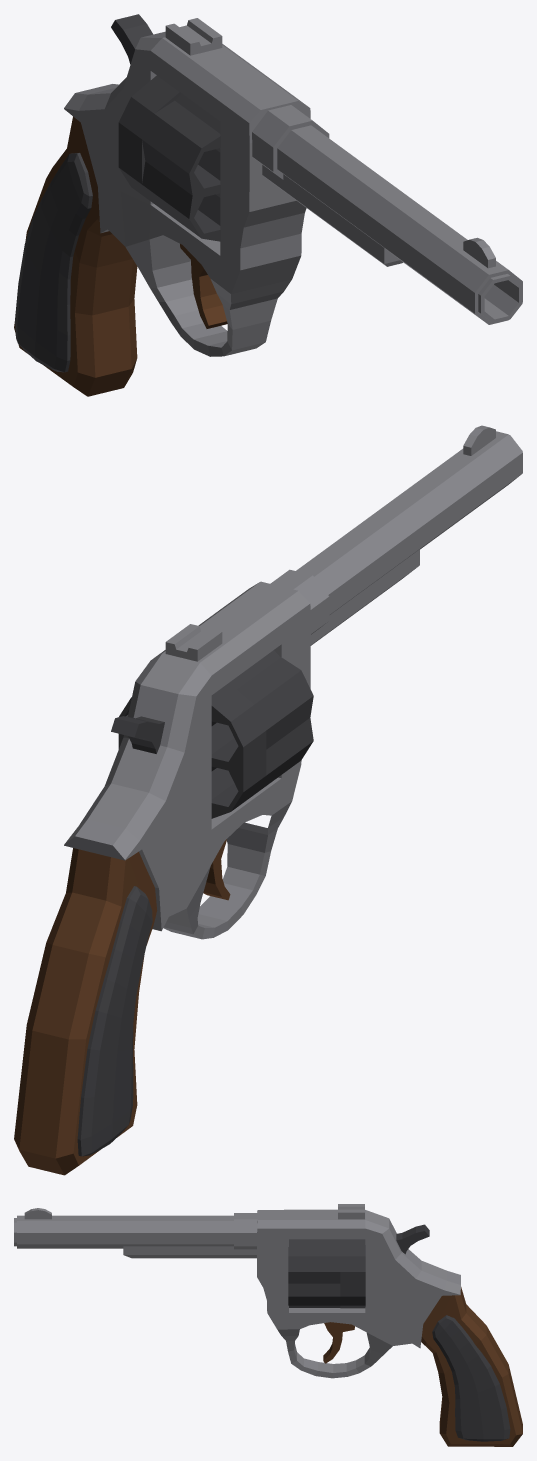
Rendered from revolver.glb.
3 renders of one model, top to bottom at view 1: azimuth 30°, elevation 25°; view 2: azimuth 150°, elevation 25°; view 3: azimuth 270°, elevation 25°, orthographic. The views are drawn at different scales.
Parts seen in each view (by area): view 1: Revolver; view 2: Revolver; view 3: Revolver.
Boxes of the visible parts, box(x1,y1,x2,y2) form: Revolver: box(14, 14, 522, 396); Revolver: box(14, 425, 522, 1175); Revolver: box(14, 1204, 522, 1446).
Bounding box in the file's own units: 0.0434 × 0.1418 × 0.28.
